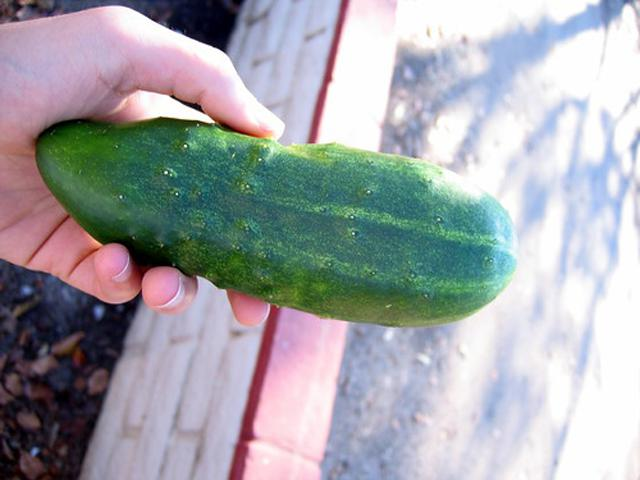cucumber: (36, 119, 513, 329)
